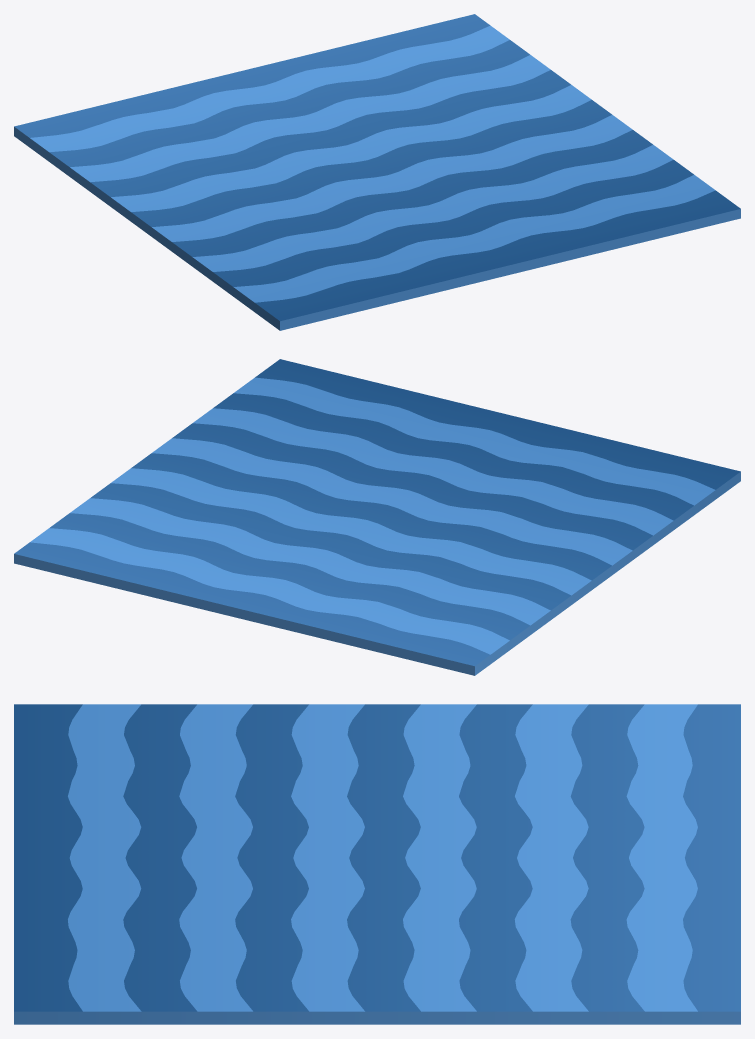
File: Ground_55.fbx
3 views of the same model, one above another, from view 1: azimuth 30°, elevation 25°; view 2: azimuth 150°, elevation 25°; view 3: azimuth 270°, elevation 25° (orthographic). The views are drawn at different scales.
Visible parts, largest first — view 1: Ground_55; view 2: Ground_55; view 3: Ground_55.
Boxes of the visible parts, x1=… form: Ground_55: x1=14, y1=14, x2=740, y2=330; Ground_55: x1=14, y1=359, x2=740, y2=675; Ground_55: x1=14, y1=704, x2=740, y2=1024.
Size of the model in its own units: 2.5 by 0.05 by 2.5.
